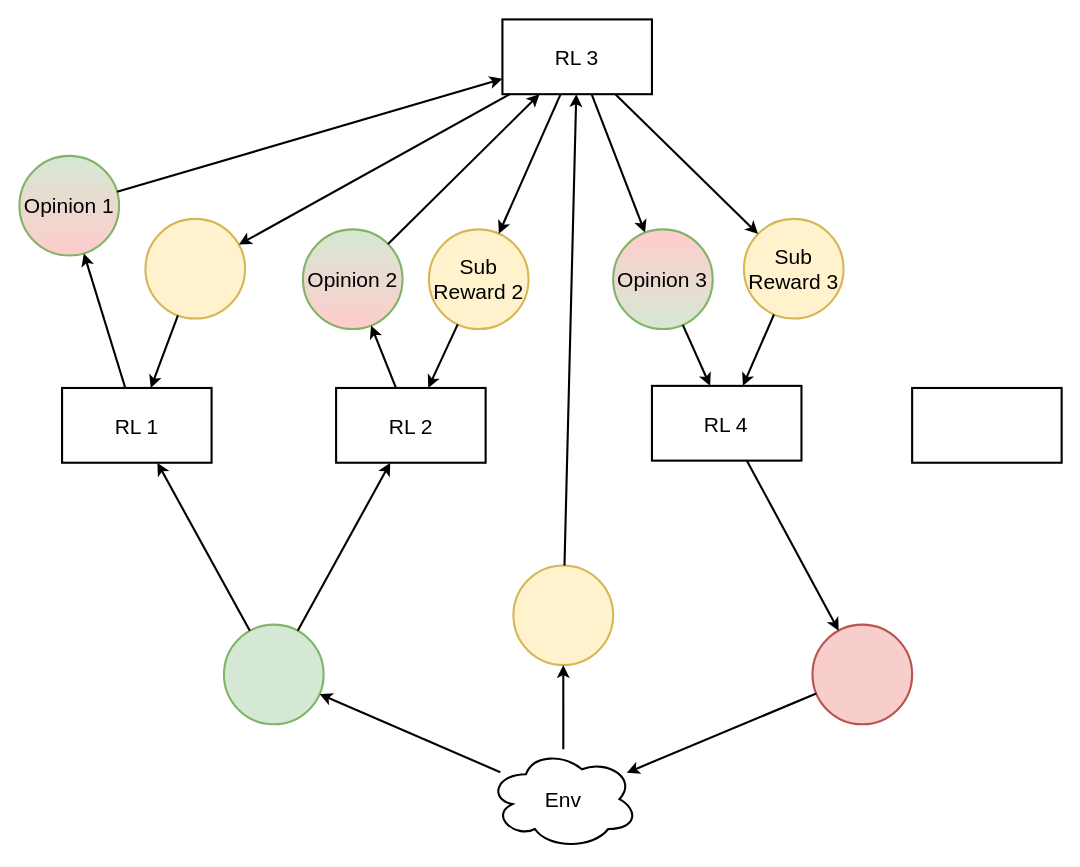
Some shapes in this 1080 by 867 pixel diagram are drawn without their labels. Here are the shapes that lost their labels. From the top down, the centre of each, then its label:
At point 195,268: "Sub Reward 1".
At point 986,424: "RL 5".
At point 563,615: "Reward".
At point 273,674: "State".
At point 862,674: "Action".
